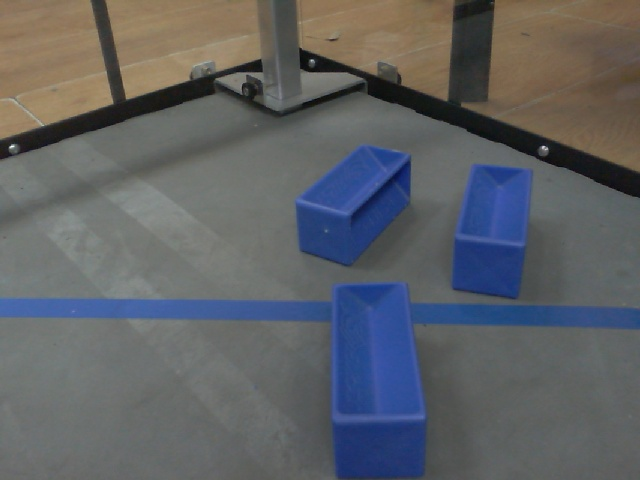BlueSample: (320, 277, 429, 480), (292, 141, 417, 266), (451, 161, 539, 301)
